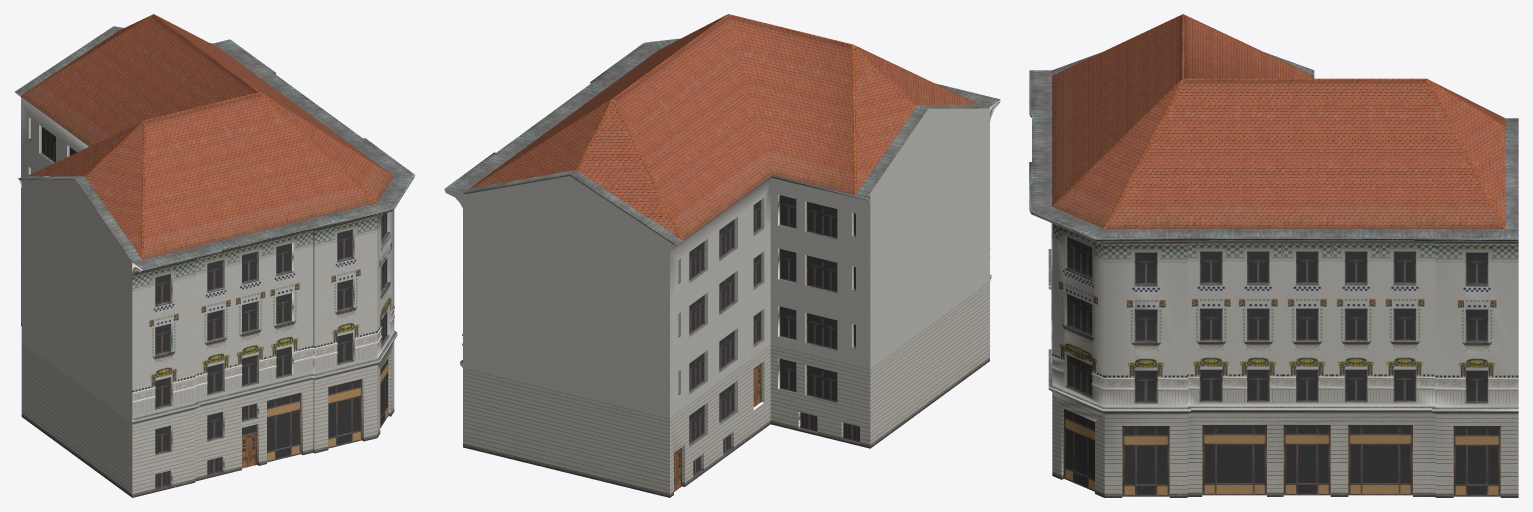
The picture shows the model from 3 angles, left to right: view 1: azimuth 30°, elevation 25°; view 2: azimuth 150°, elevation 25°; view 3: azimuth 270°, elevation 25°; orthographic projection. The views are drawn at different scales.
Parts seen in each view (by area): view 1: Haus_Material_0.001; view 2: Haus_Material_0.001; view 3: Haus_Material_0.001.
Boxes of the visible parts, bbox=[...] form: Haus_Material_0.001: bbox=[15, 14, 415, 497]; Haus_Material_0.001: bbox=[444, 14, 1000, 497]; Haus_Material_0.001: bbox=[1029, 14, 1518, 497].
Bounding box in the file's own units: 2280 × 2300 × 2800.
1 material, 1 textured.
